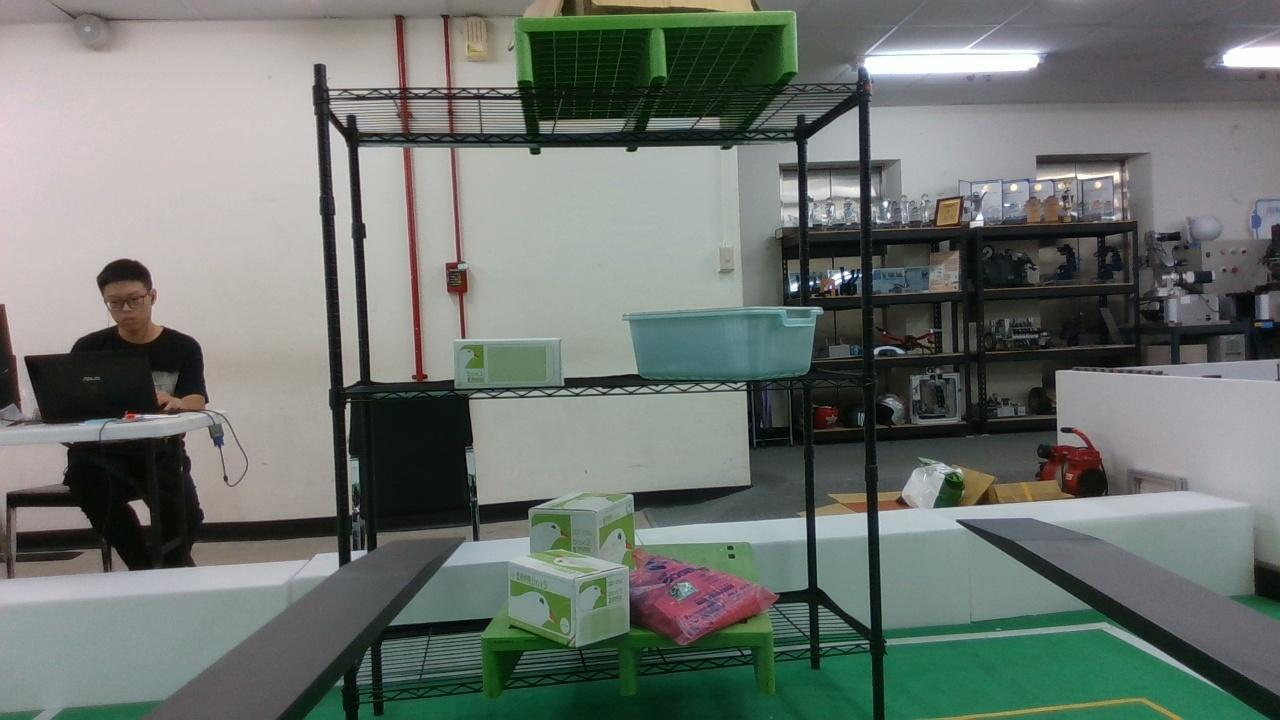Pallet: (479, 630, 776, 698), (513, 11, 799, 81)
